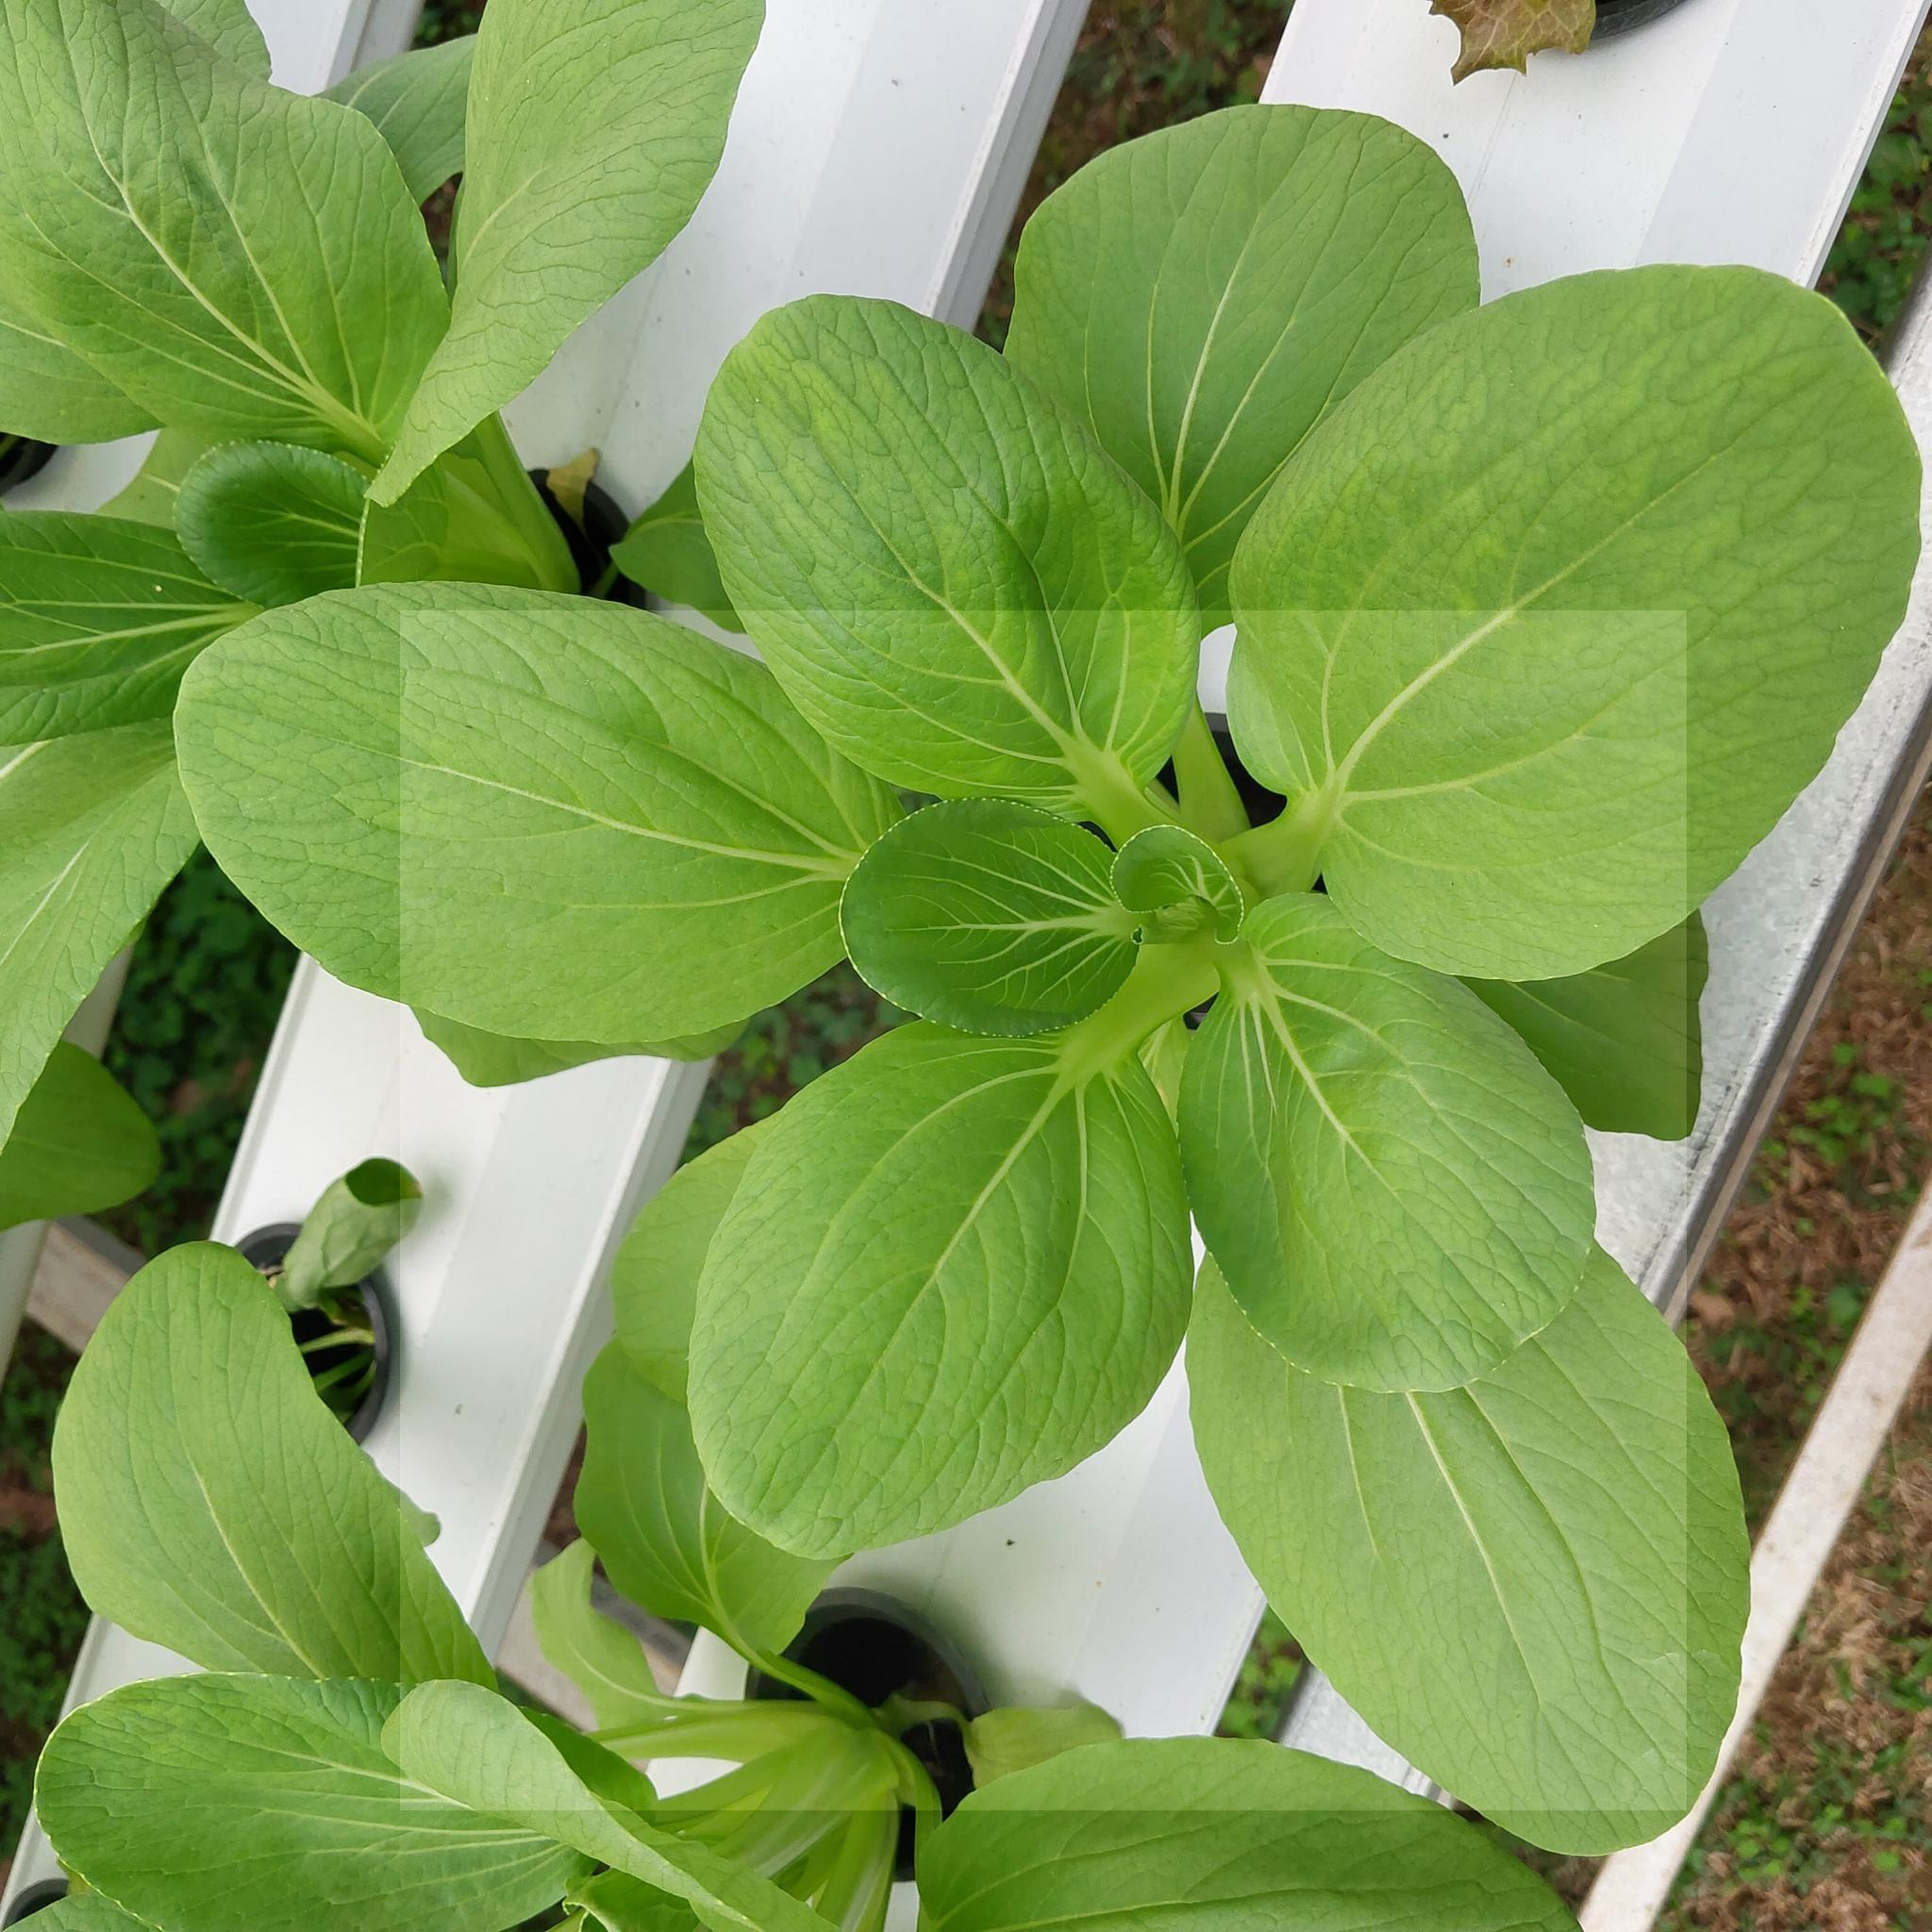Healthy-Pechay: (952, 911, 1743, 1854), (1207, 258, 1932, 947), (173, 593, 911, 1033), (9, 1660, 936, 1932), (1024, 104, 1467, 621), (4, 0, 464, 494), (48, 1231, 483, 1702), (370, 0, 768, 511), (690, 1040, 1079, 1548), (1189, 941, 1608, 1384), (692, 290, 1042, 809), (561, 1332, 858, 1706), (1286, 564, 1610, 830), (4, 497, 272, 747), (2, 745, 218, 1035), (106, 890, 292, 1122), (2, 1039, 163, 1256), (0, 267, 180, 449), (2, 1523, 88, 1748), (1824, 1283, 1865, 1334)
